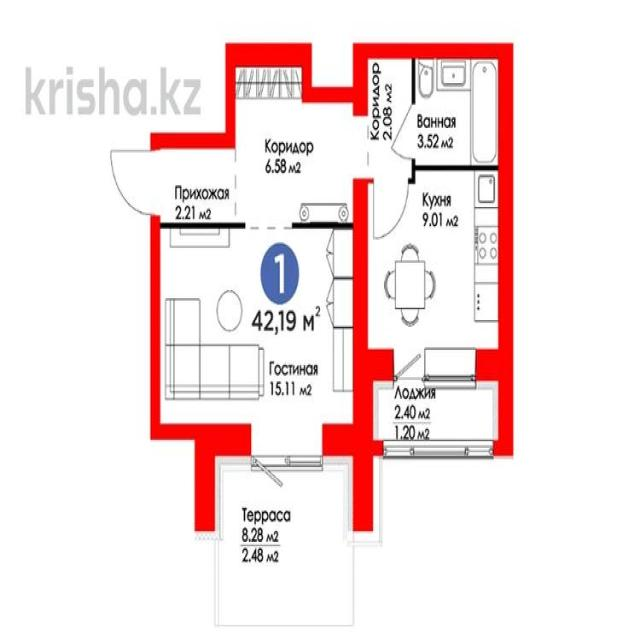balcony: (213, 455, 354, 624), (371, 384, 503, 446)
bathroom: (415, 59, 499, 167)
hallway: (151, 54, 413, 224)
kitchen: (369, 175, 502, 355)
living_room: (157, 228, 355, 434)
